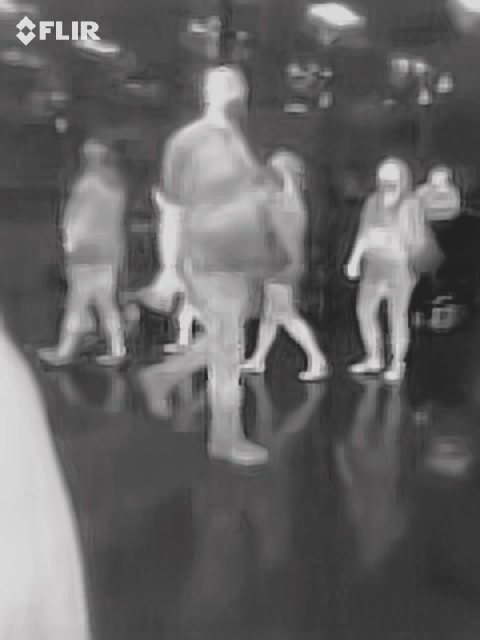head: (198, 62, 250, 124)
